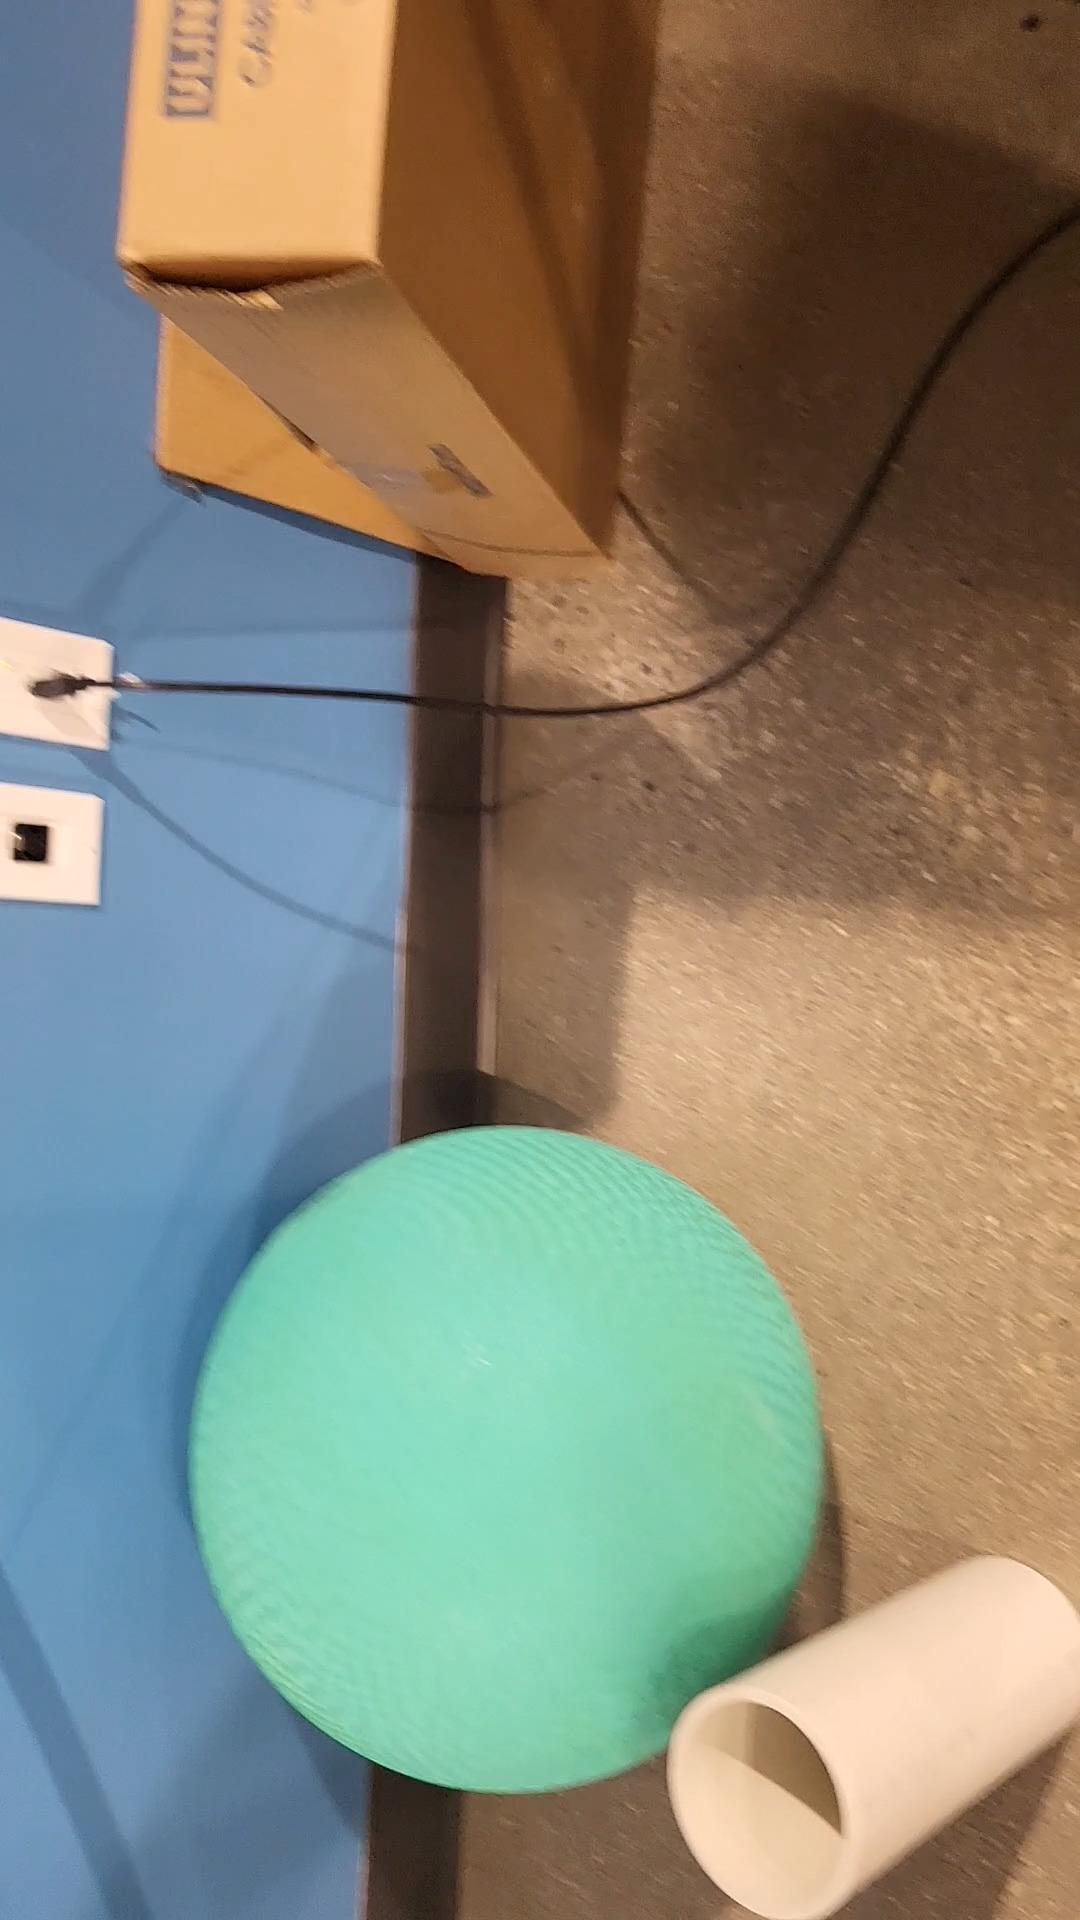algae: (195, 1130, 818, 1797)
coral: (673, 1549, 1080, 1919)
